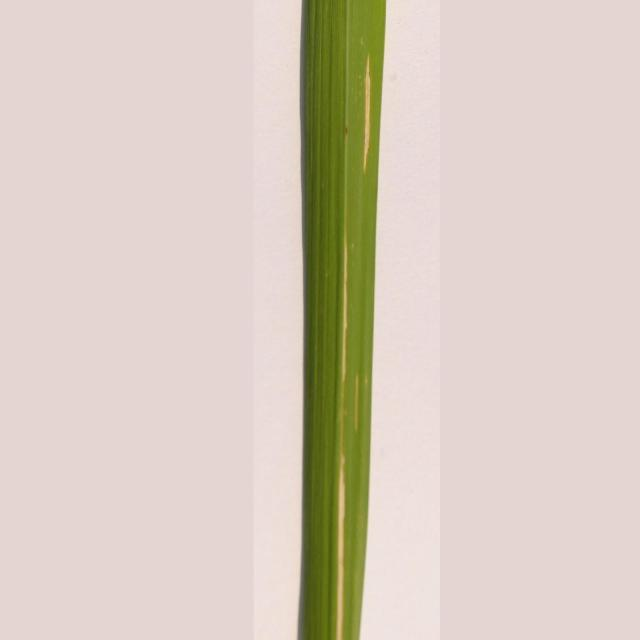Bacterial_Leaf_Blight: (322, 217, 373, 391), (321, 434, 363, 640), (350, 48, 388, 179)
